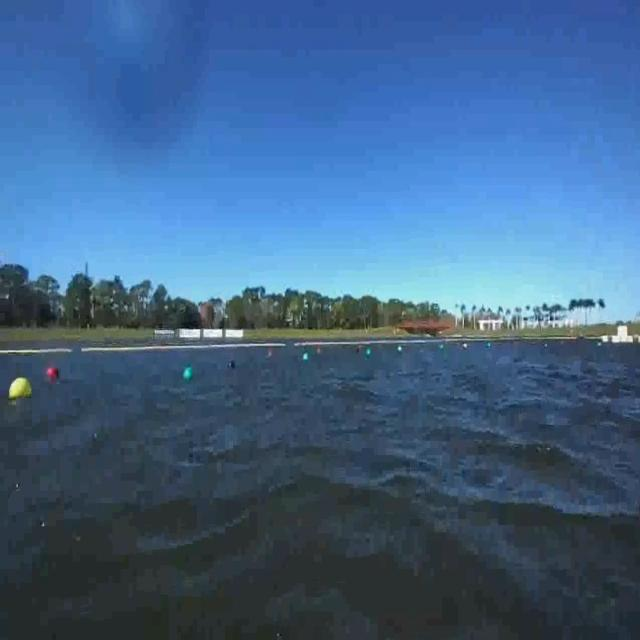green-buoy: (183, 366, 192, 380)
red-buoy: (46, 366, 57, 377)
yellow-buoy: (8, 376, 32, 398)
